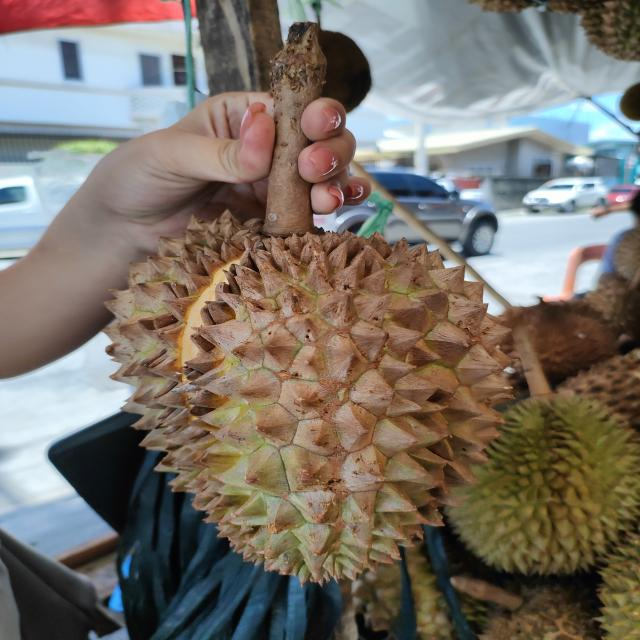mature: (98, 212, 524, 591)
